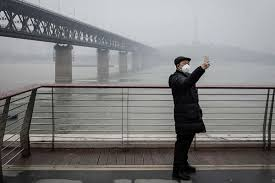mask: (174, 54, 193, 74)
